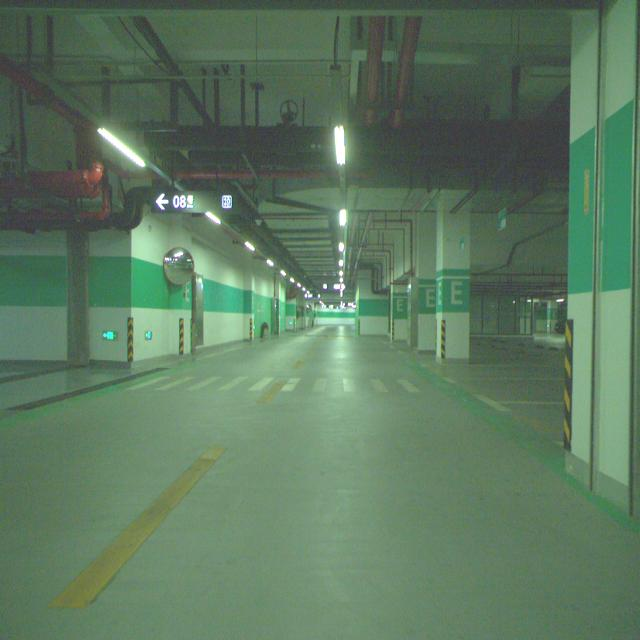pillar: (436, 211, 470, 359)
wall: (169, 230, 194, 357)
